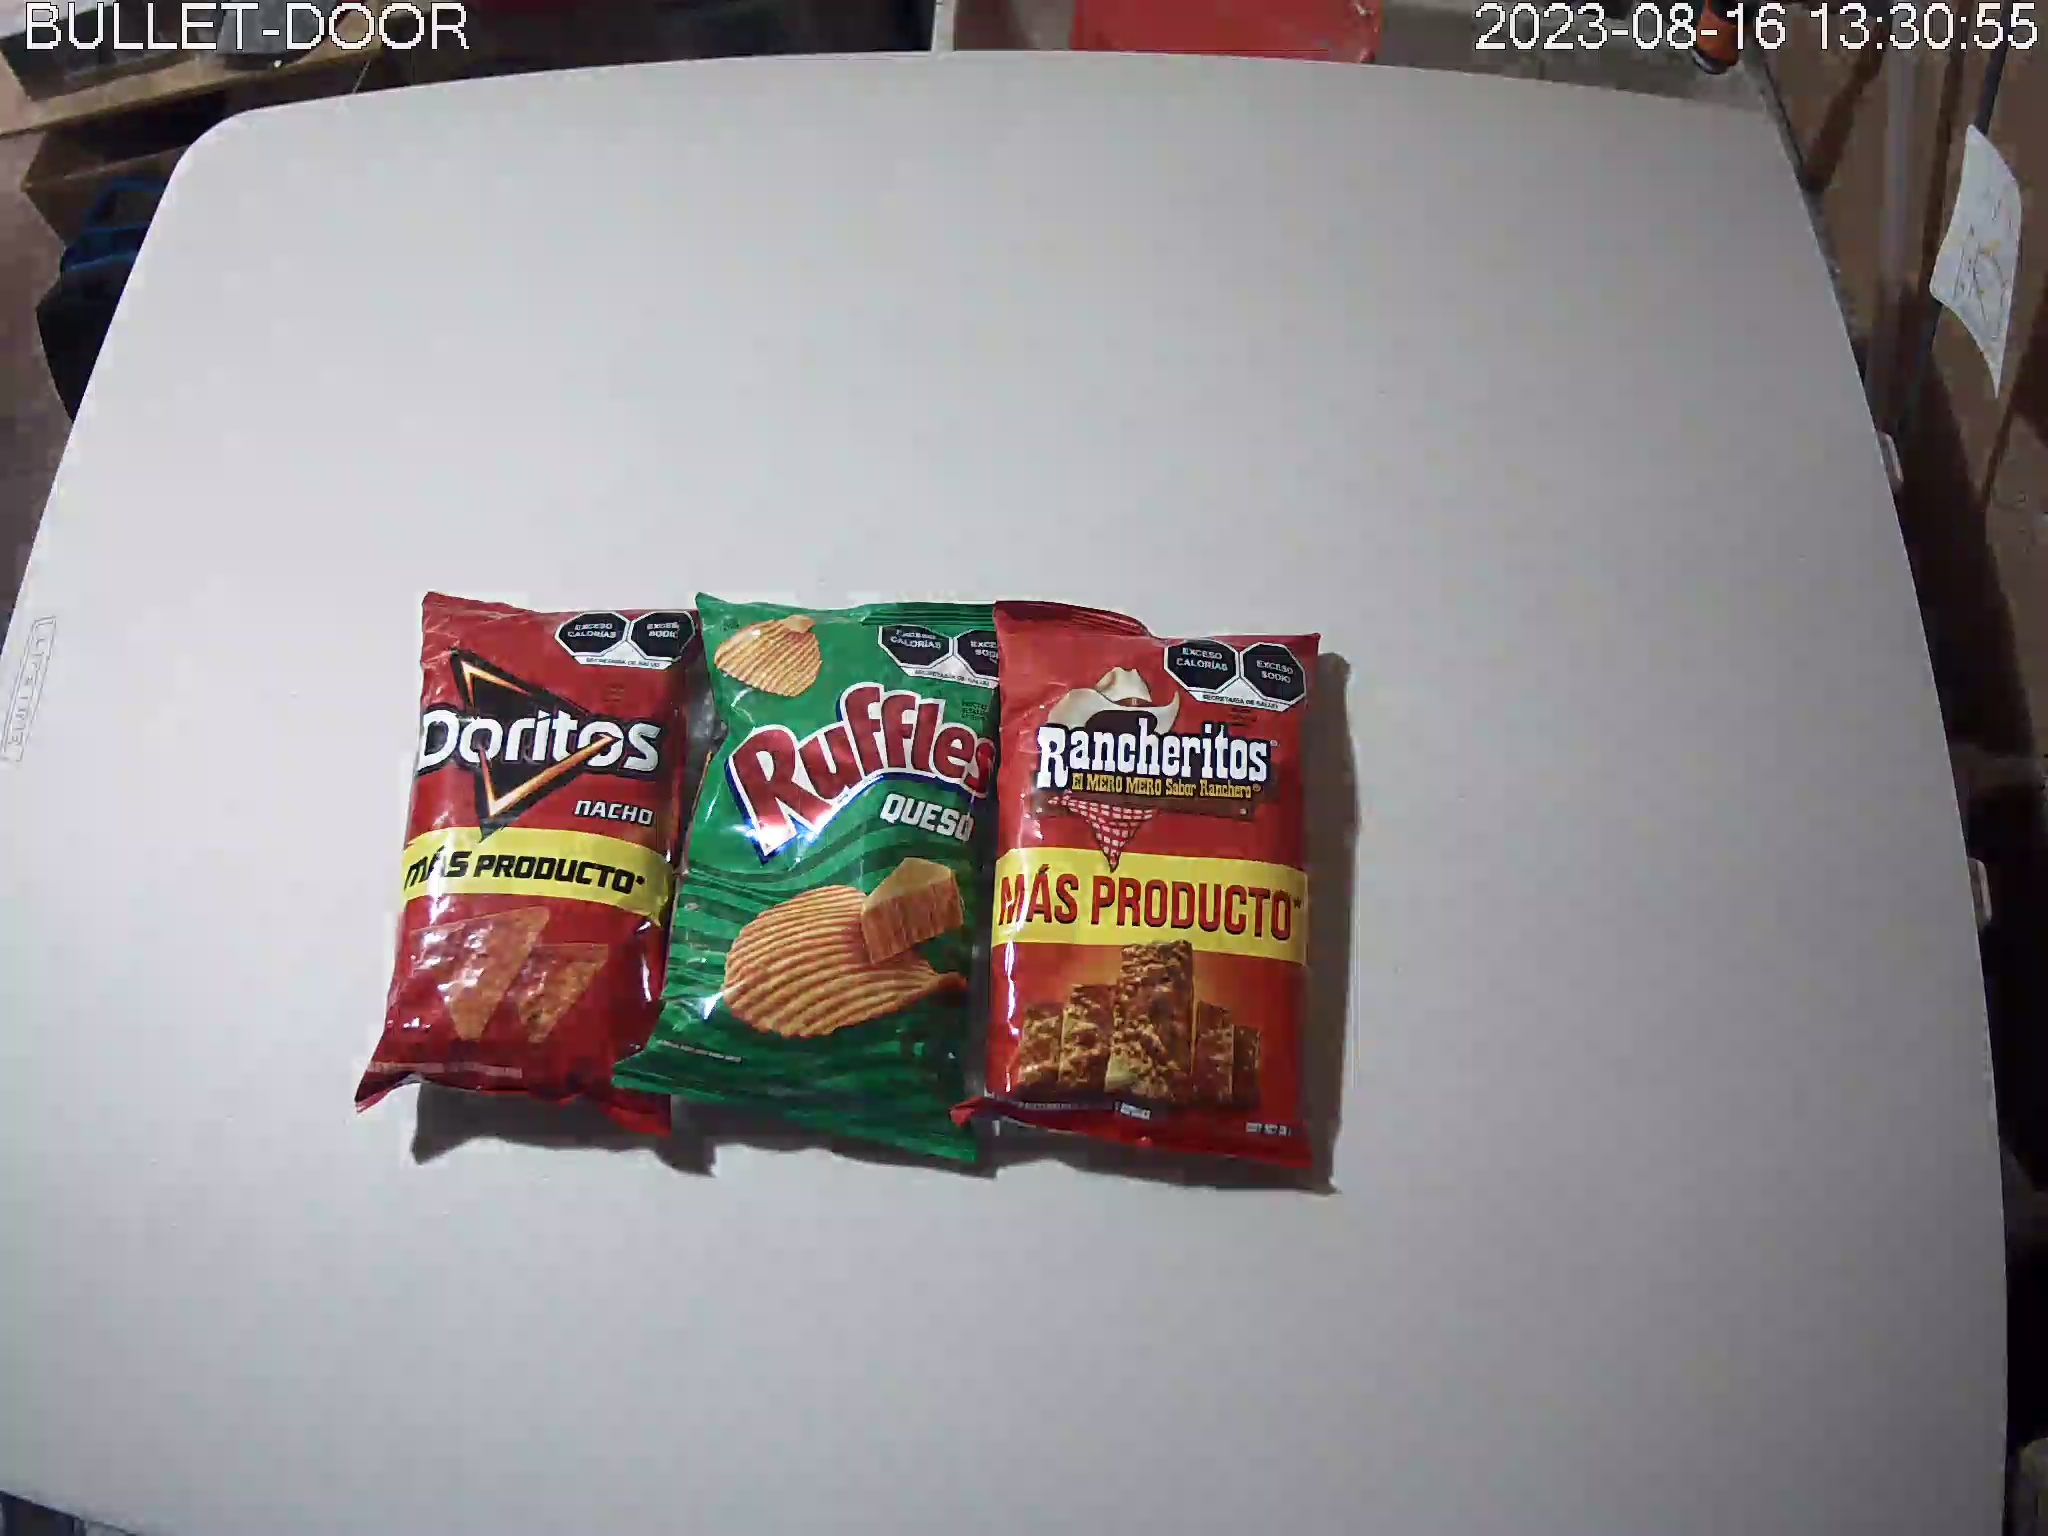DoritosN_61_F: (353, 591, 701, 1142)
Rancheritos_58_F: (982, 600, 1322, 1171)
RufflesQ_48_F: (656, 594, 998, 1170)
